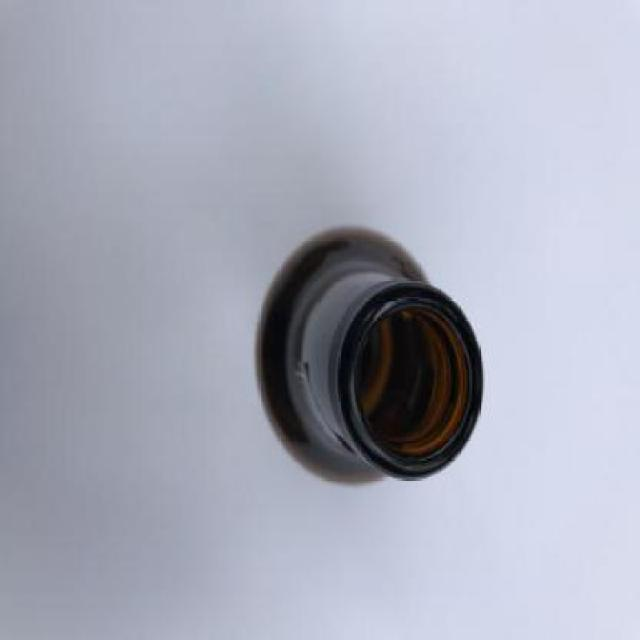GLASS: (258, 227, 485, 488)
